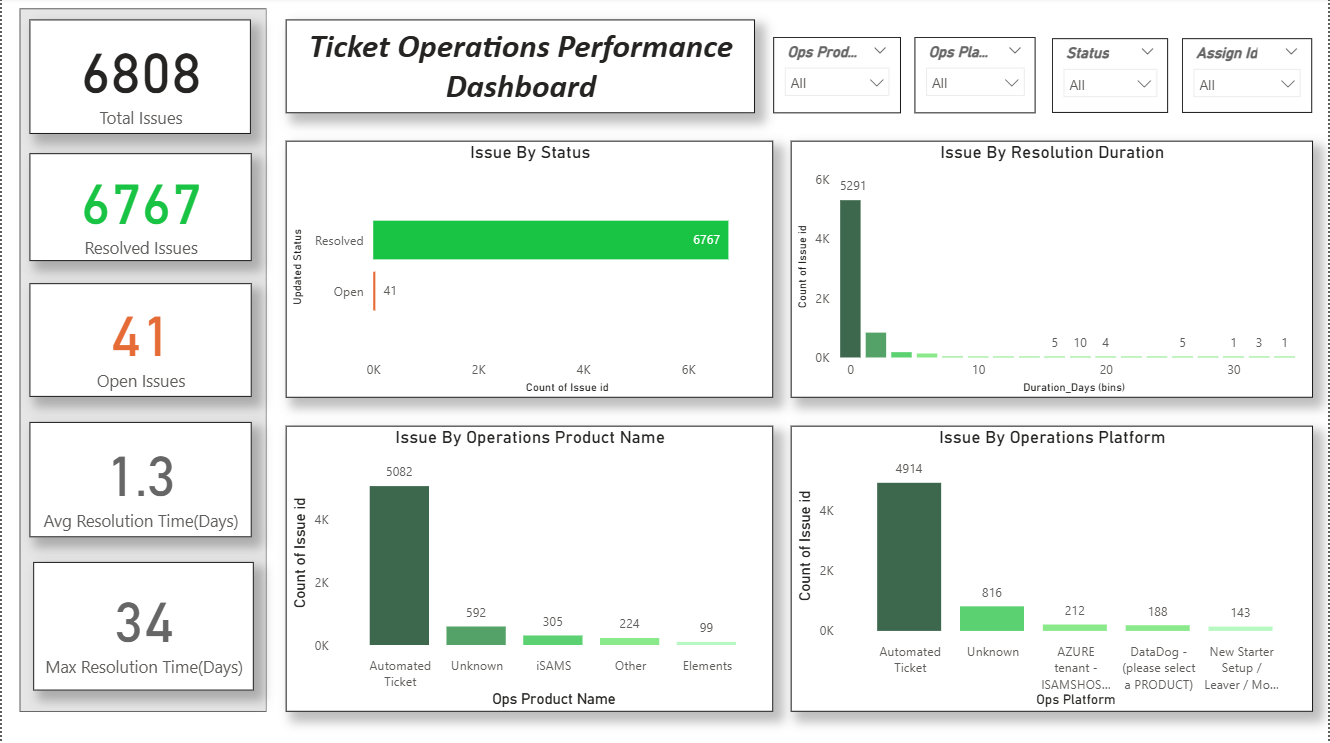

Layout of this report page (visuals, bound fields, positions):
{"tool":"powerbi","page":{"name":"Dashboard","canvas":[1280,720],"ordinal":0},"visuals":[{"type":"card","fields":{"Values":["CountNonNull(Sheet1.Issue id)"]},"box":[26,22.3,213.9,110],"z":0,"group":"g1"},{"type":"slicer","fields":{"Values":["Sheet1.Ops Product Name"]},"box":[744.4,38.6,123.1,73.6],"z":0},{"type":"slicer","fields":{"Values":["Sheet1.Updated Status"]},"box":[1013.4,39.8,112.2,72.4],"z":1000},{"type":"slicer","fields":{"Values":["Sheet1.Ops Platform"]},"box":[880.7,38.6,117,73.6],"z":2000},{"type":"card","fields":{"Values":["CountNonNull(Sheet1.Updated Status)"]},"box":[26,151,214.1,104.3],"z":2000,"group":"g1"},{"type":"slicer","fields":{"Values":["Sheet1.Assignee Id"]},"box":[1138.9,39.8,125.5,72.4],"z":3000},{"type":"shape","box":[16.5,11,238.8,679.2],"z":4000},{"type":"card","fields":{"Values":["CountNonNull(Sheet1.Updated Status)"]},"box":[26,277.2,214.1,109.8],"z":4000,"group":"g1"},{"type":"group","id":"g1","title":"Group 1","box":[26,22.3,216.5,648.2],"z":5000},{"type":"barChart","title":"Issue  By Status","fields":{"Category":["Sheet1.Updated Status"],"Y":["CountNonNull(Sheet1.Issue id)"]},"box":[274.4,138.6,470.7,248.4],"z":6000},{"type":"card","fields":{"Values":["Avg(Sheet1.Duration_Days)"]},"box":[26,410.3,214.1,111.1],"z":6000,"group":"g1"},{"type":"clusteredColumnChart","title":"Issue  By Operations Product Name","fields":{"Category":["Sheet1.Ops Product Name"],"Y":["CountNonNull(Sheet1.Issue id)"]},"box":[274.4,414.4,470.7,275.8],"z":7000},{"type":"columnChart","title":"Issue By Operations Platform","fields":{"Category":["Sheet1.Ops Platform"],"Y":["CountNonNull(Sheet1.Issue id)"]},"box":[761.6,414.4,503.6,275.8],"z":8000},{"type":"card","fields":{"Values":["Max(Sheet1.Duration_Days)"]},"box":[29.2,546.4,212.8,123.7],"z":8000,"group":"g1"},{"type":"columnChart","title":"Issue By Resolution Duration","fields":{"Y":["CountNonNull(Sheet1.Issue id)"],"Category":["Sheet1.Duration_Days (bins)"]},"box":[761.6,138.6,503.6,248.4],"z":9000},{"type":"textbox","box":[273.9,21.7,452.4,90.5],"z":10000}]}

Visuals, with their boxes in screenshot pixels (x1, y1, x2, y2), scaled from the page's 1280x720 canvas onto the 1330x743 screenshot:
card - CountNonNull(Sheet1.Issue id): 27, 23, 249, 137
slicer - Sheet1.Ops Product Name: 773, 40, 901, 116
slicer - Sheet1.Updated Status: 1053, 41, 1170, 116
slicer - Sheet1.Ops Platform: 915, 40, 1037, 116
card - CountNonNull(Sheet1.Updated Status): 27, 156, 249, 263
slicer - Sheet1.Assignee Id: 1183, 41, 1314, 116
shape: 17, 11, 265, 712
card - CountNonNull(Sheet1.Updated Status): 27, 286, 249, 399
"Group 1" group: 27, 23, 252, 692
"Issue  By Status" barChart: 285, 143, 774, 399
card - Avg(Sheet1.Duration_Days): 27, 423, 249, 538
"Issue  By Operations Product Name" clusteredColumnChart: 285, 428, 774, 712
"Issue By Operations Platform" columnChart: 791, 428, 1315, 712
card - Max(Sheet1.Duration_Days): 30, 564, 251, 692
"Issue By Resolution Duration" columnChart: 791, 143, 1315, 399
textbox: 285, 22, 755, 116
